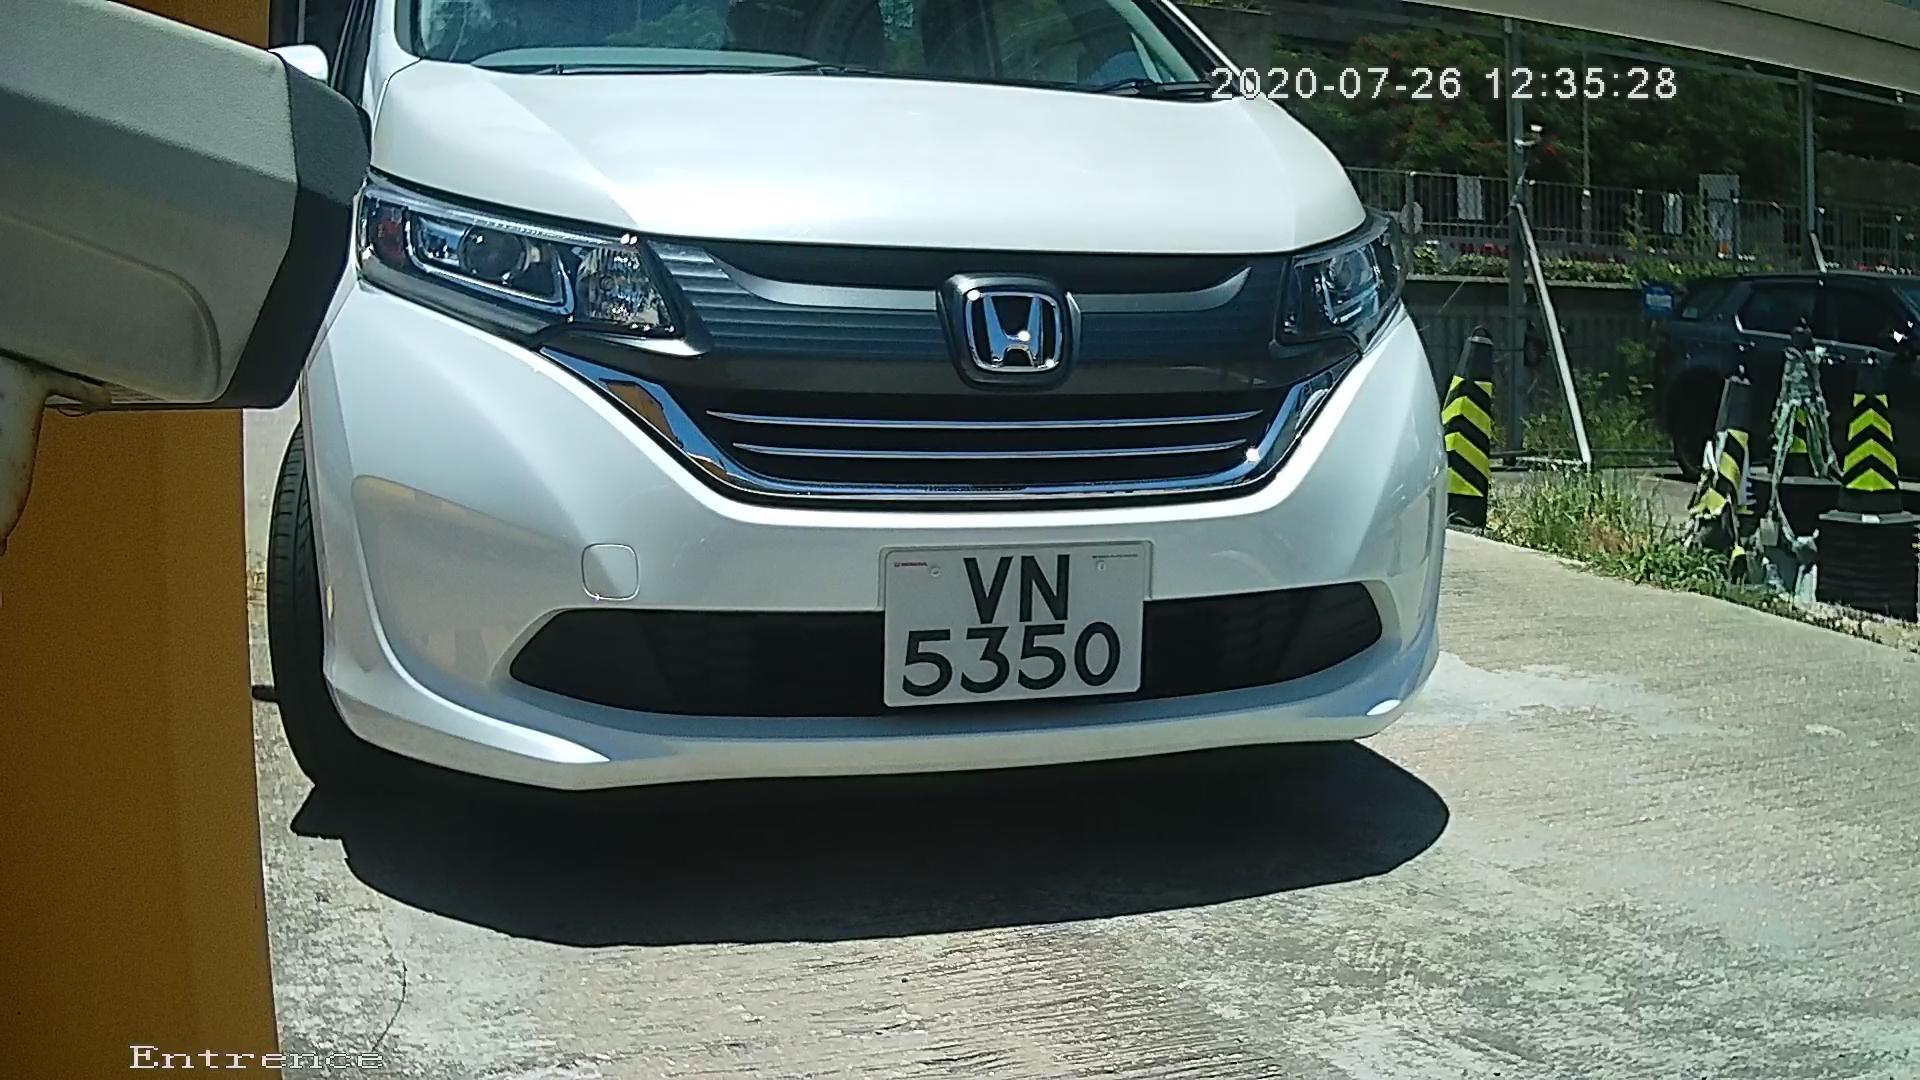privatecar: (206, 34, 1501, 907)
